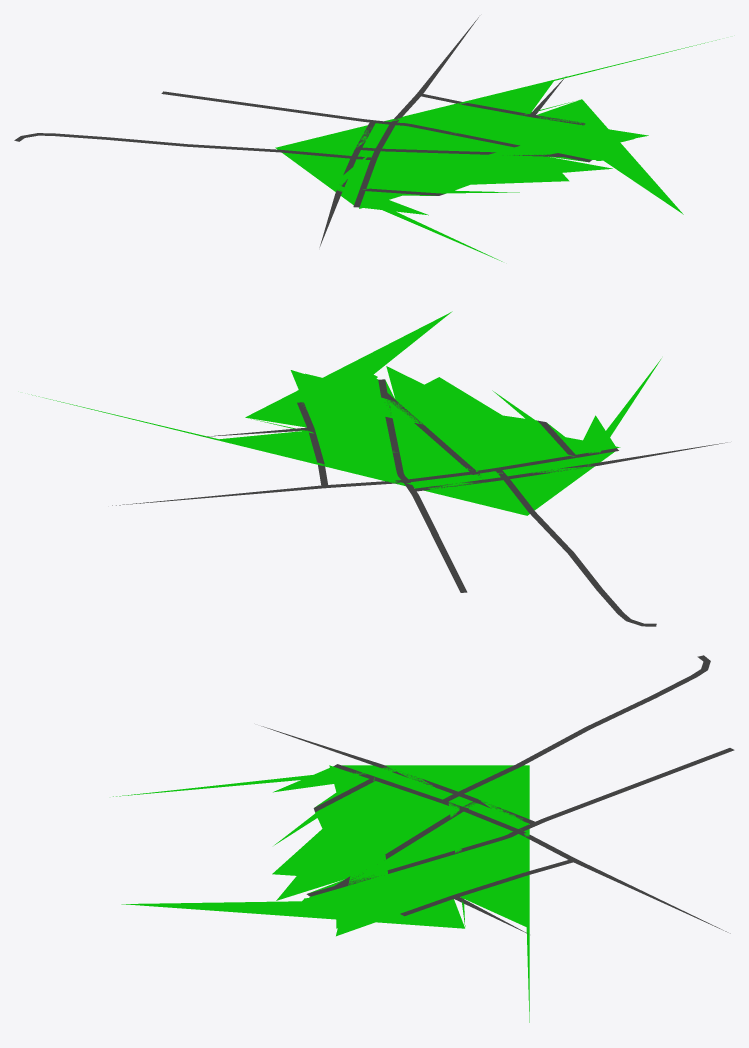
The picture shows the model from 3 angles, top to bottom: view 1: azimuth 30°, elevation 25°; view 2: azimuth 150°, elevation 25°; view 3: azimuth 270°, elevation 25°; orthographic projection. The views are drawn at different scales.
Size of the model in its own units: 417 by 0 by 335.
